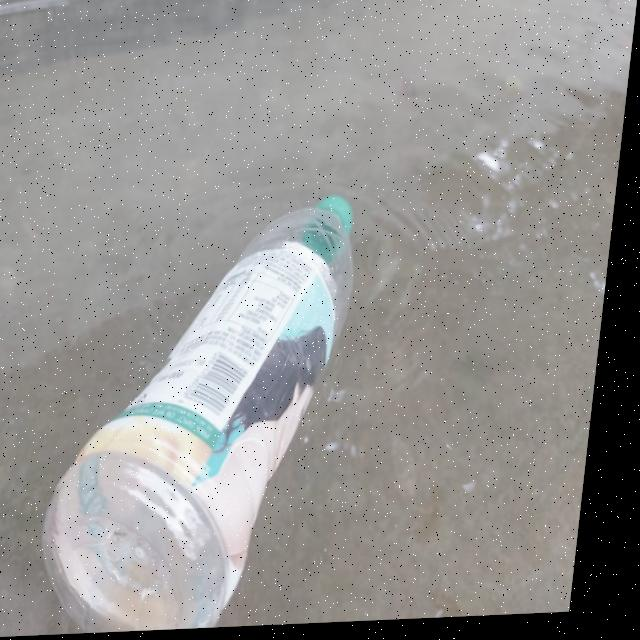waterbottle: (36, 187, 386, 637)
